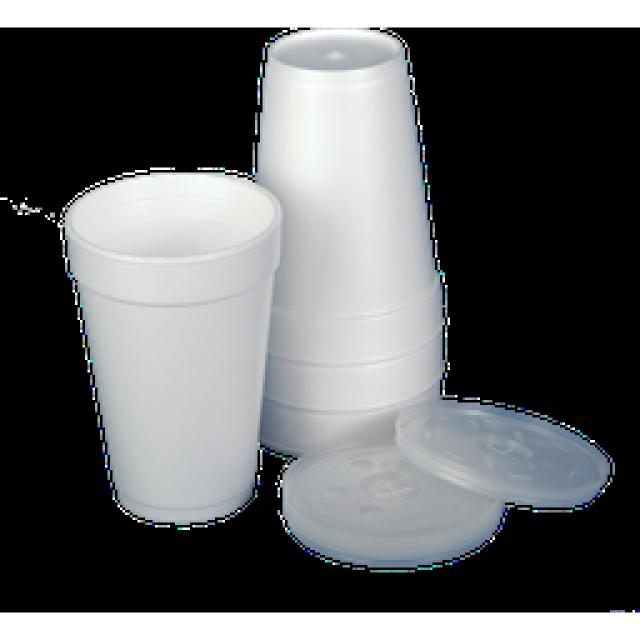styrofoam: (60, 28, 612, 568)
